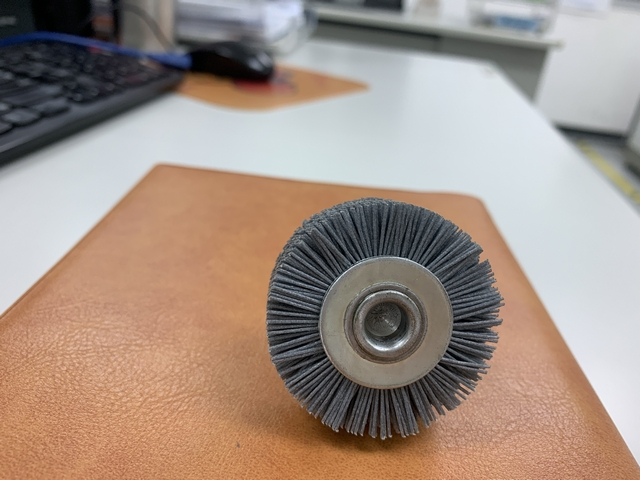Wheel Brush: (259, 196, 512, 452), (257, 178, 507, 434), (260, 215, 450, 446)
